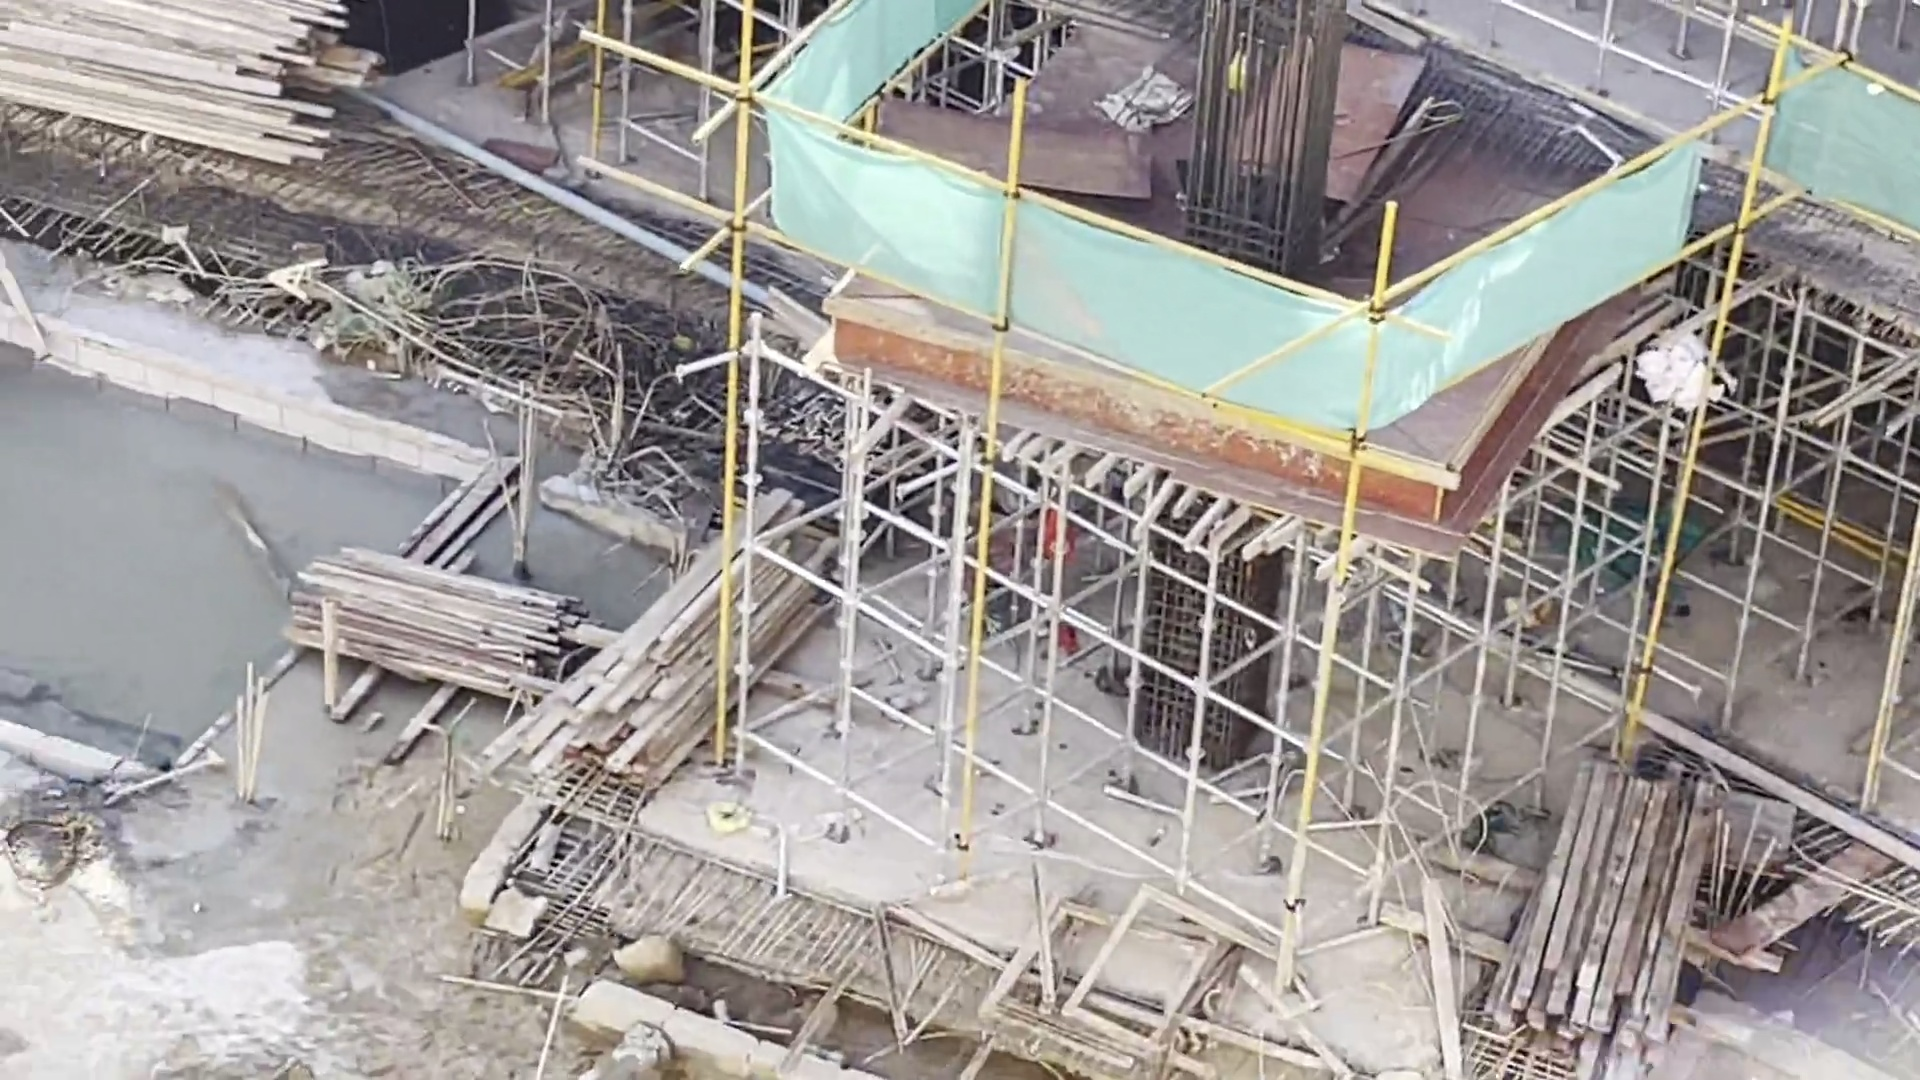wood: (1486, 727, 1743, 1069), (13, 1, 353, 185), (295, 545, 588, 724)
